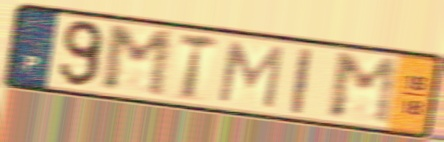9: (57, 18, 107, 90)
I: (289, 44, 315, 118)
M: (327, 51, 403, 128), (101, 23, 176, 100), (214, 39, 287, 112)
T: (175, 30, 222, 104)
